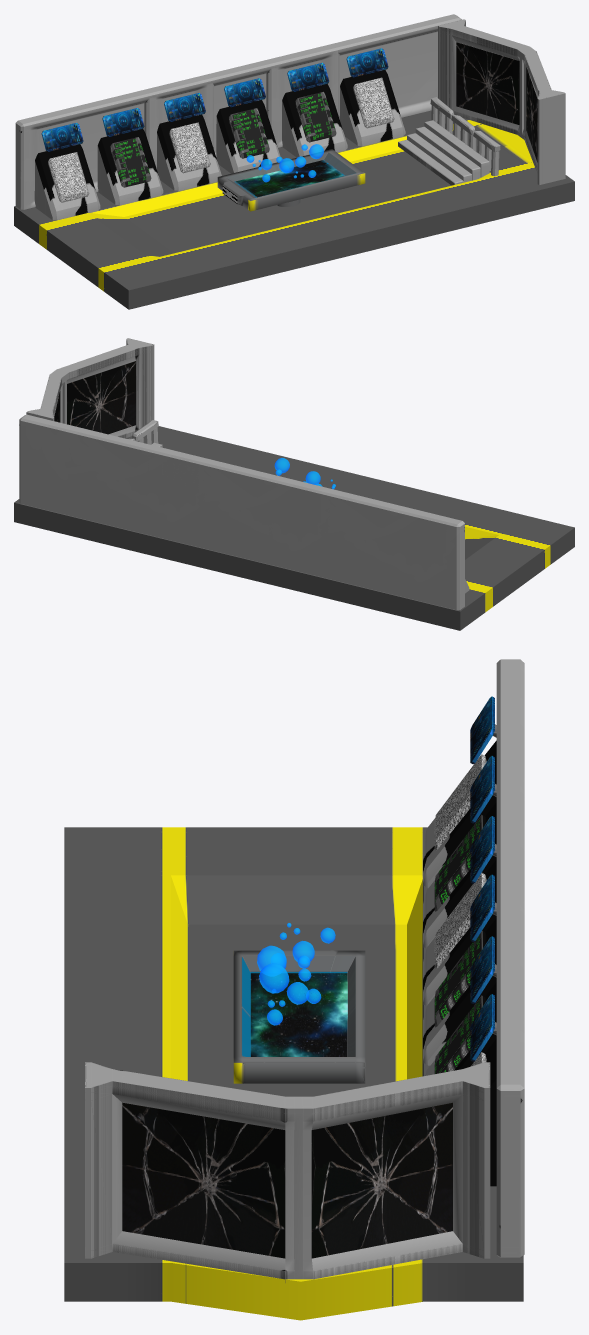
File: assessment_two_-_aie_-_sci_fi_ship_interior.glb
The picture shows the model from 3 angles, top to bottom: view 1: azimuth 30°, elevation 25°; view 2: azimuth 150°, elevation 25°; view 3: azimuth 270°, elevation 25°; orthographic projection. The views are drawn at different scales.
Parts seen in each view (by area): view 1: floor:pCube1, window:Window, pCube1 (×5), pCube3, pCube10, hologram_table:pCube1, pCube9, computer:pCube1, guardrail_v2:guardrail, pCube18, pCube22, pCube21 (+16 smaller); view 2: floor:pCube1, pCube3, pCube10, pCube9, window:Window, guardrail_v2:guardrail; view 3: floor:pCube1, Window, window:Window, hologram_table:pCube1, pCube3, pCube1 (×4), pCube9, pCube10, computer:pCube1, pCube20, pCube19, computer:pCube2 (+8 smaller).
Boxes of the visible parts, <box> form: floor:pCube1: <box>14,111,574,309</box>; window:Window: <box>438,19,565,185</box>; pCube1 (×5): <box>97,70,405,205</box>; pCube3: <box>266,14,461,147</box>; pCube10: <box>15,74,213,210</box>; hologram_table:pCube1: <box>217,149,365,211</box>; pCube9: <box>144,44,339,169</box>; computer:pCube1: <box>34,144,100,220</box>; guardrail_v2:guardrail: <box>430,97,500,176</box>; pCube18: <box>169,122,210,173</box>; pCube22: <box>353,77,394,128</box>; pCube21: <box>295,91,336,142</box>; floor:pCube1: <box>14,426,574,630</box>; pCube3: <box>19,414,214,549</box>; pCube10: <box>268,476,464,610</box>; pCube9: <box>144,446,336,579</box>; window:Window: <box>26,338,154,438</box>; guardrail_v2:guardrail: <box>128,420,158,444</box>; floor:pCube1: <box>64,827,523,1320</box>; Window: <box>122,1102,452,1258</box>; window:Window: <box>85,1062,490,1282</box>; hologram_table:pCube1: <box>233,950,365,1083</box>; pCube3: <box>496,901,524,1257</box>; pCube1 (×4): <box>423,802,496,1186</box>; pCube9: <box>496,782,524,966</box>; pCube10: <box>496,659,524,846</box>; computer:pCube1: <box>423,740,496,887</box>; pCube20: <box>434,930,486,1027</box>; pCube19: <box>434,815,486,911</box>; computer:pCube2: <box>434,754,486,850</box>.
Bounding box in the file's own units: 931 × 201 × 399.
Materials: 10 (10 with a texture image).
